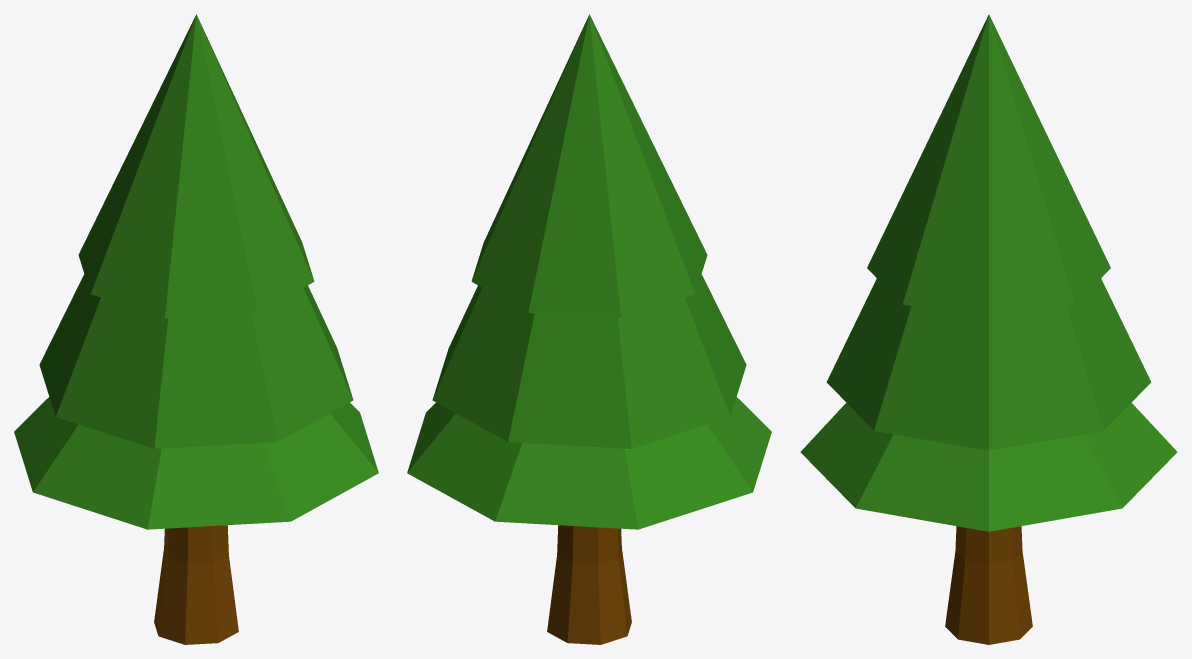
Rendered from Tree3.fbx.
3 renders of one model, left to right at view 1: azimuth 30°, elevation 25°; view 2: azimuth 150°, elevation 25°; view 3: azimuth 270°, elevation 25°, orthographic.
Parts seen in each view (by area): view 1: Tree3; view 2: Tree3; view 3: Tree3.
Part boxes in pixels (box(x1,y1,x2,y2)): Tree3: box(14, 14, 378, 644); Tree3: box(407, 14, 771, 644); Tree3: box(800, 14, 1177, 644).
Size of the model in its own units: 149 by 266 by 149.
